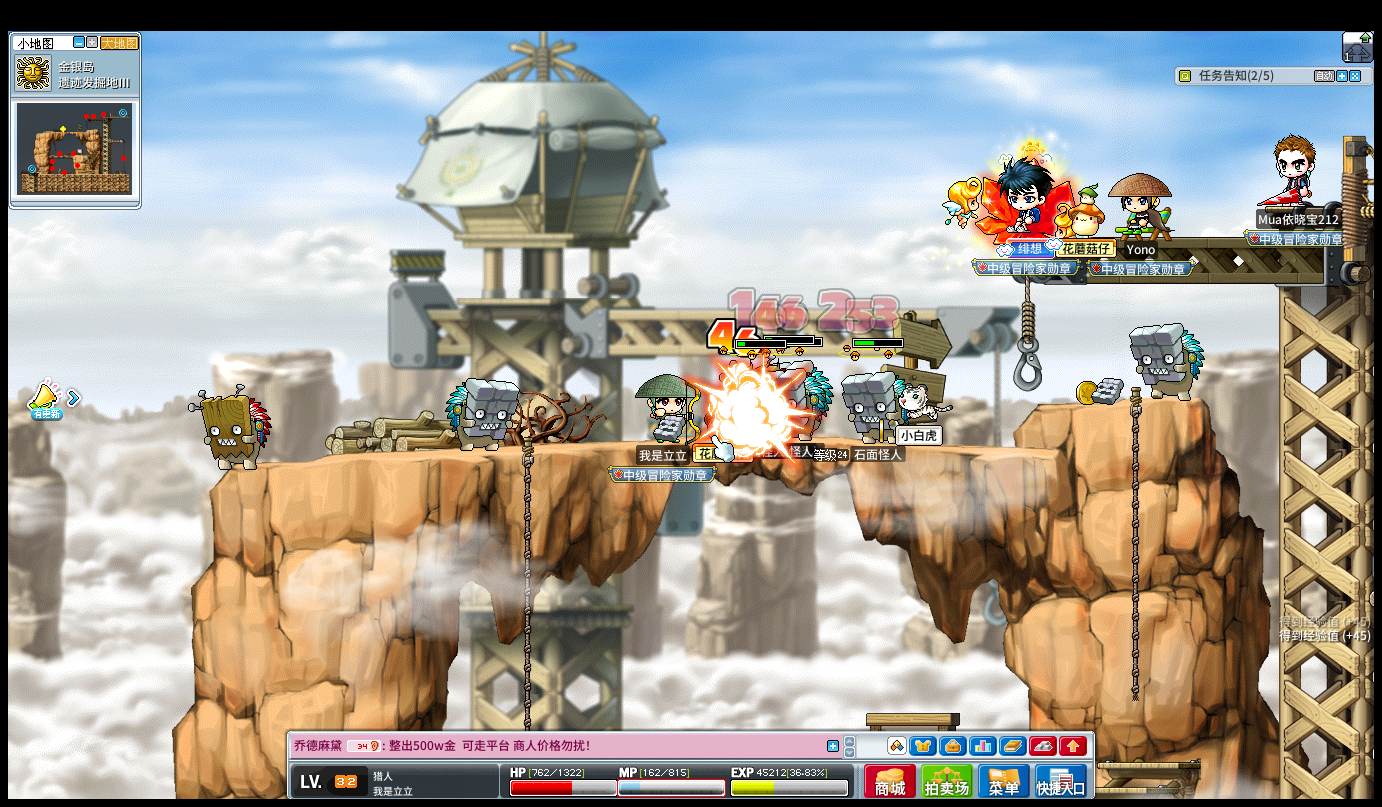floor: (206, 437, 974, 464), (1035, 395, 1201, 412)
monster: (192, 387, 272, 470), (1127, 322, 1205, 402), (445, 377, 518, 454), (842, 370, 905, 441)
rope: (1127, 382, 1142, 705), (521, 435, 533, 670)
